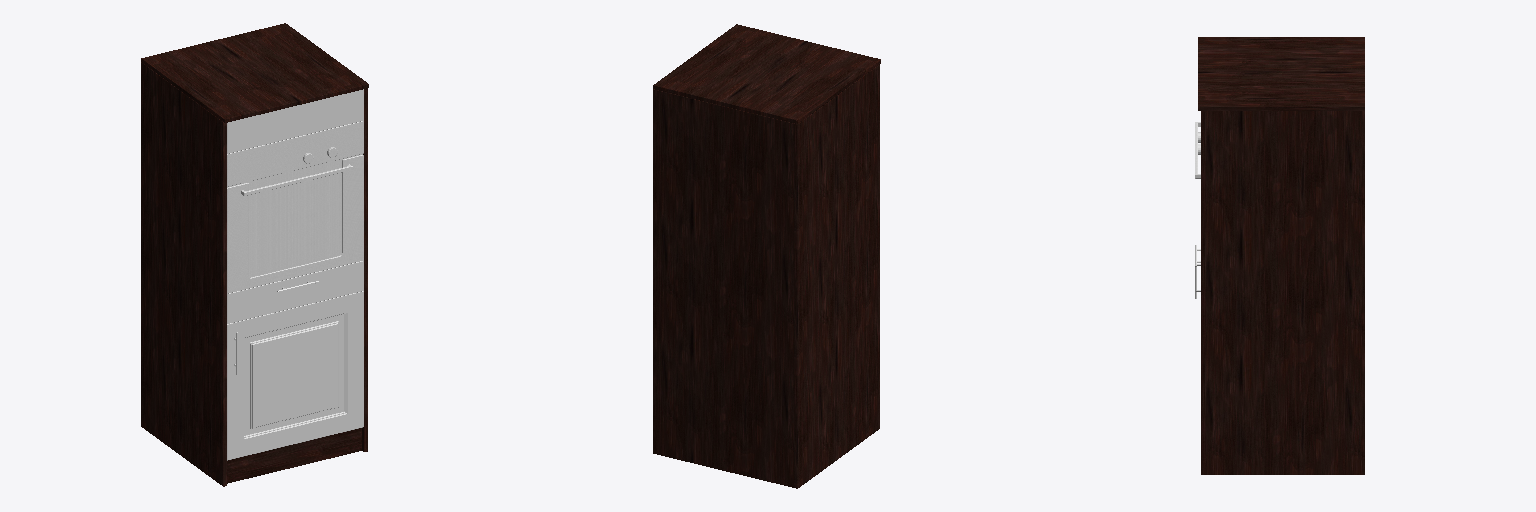
The picture shows the model from 3 angles: view 1: azimuth 30°, elevation 25°; view 2: azimuth 150°, elevation 25°; view 3: azimuth 270°, elevation 25°; orthographic projection.
Size of the model in its own units: 0.6 by 1.46 by 0.6105.
4 materials, 2 textured.